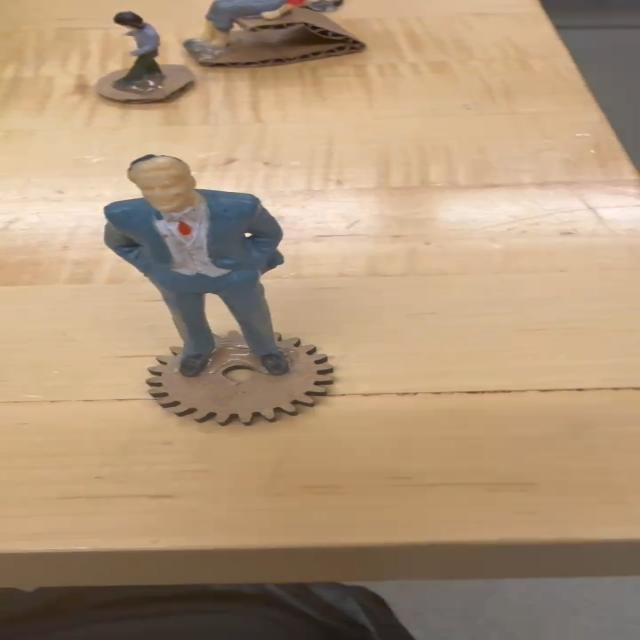Authorized: (71, 149, 300, 383)
